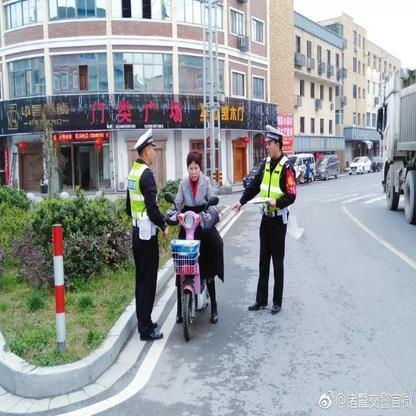target: (164, 150, 229, 343)
